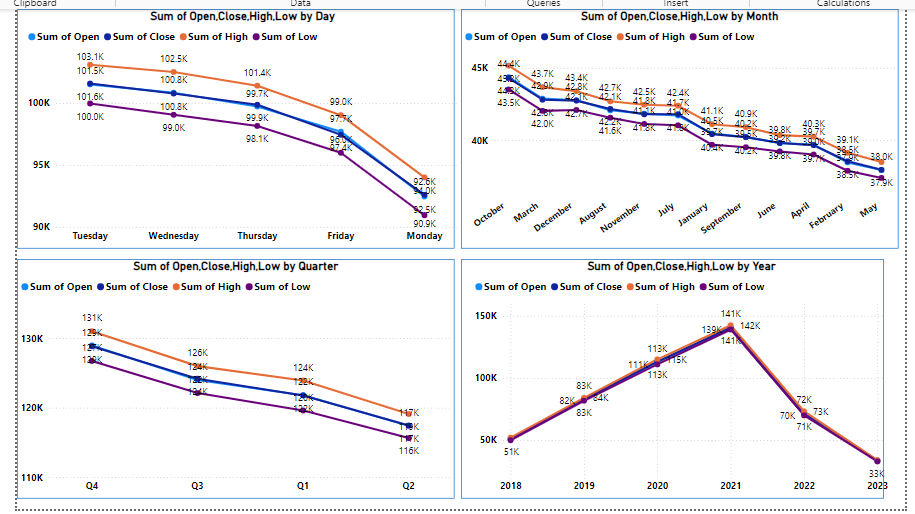

What the dashboard file says about the page in this screenshot:
{"tool":"powerbi","page":{"name":"Page 2","canvas":[1280,720],"ordinal":1},"visuals":[{"type":"lineChart","title":"Sum of Open,Close,High,Low by Day","fields":{"Category":["Sheet1.Day"],"Y":["Sum(Sheet1.Open)","Sum(Sheet1.Close)","Sum(Sheet1.High)","Sum(Sheet1.Low)"]},"box":[9.6,0,629.8,344.4],"z":0},{"type":"lineChart","title":"Sum of Open,Close,High,Low by Month","fields":{"Y":["Sum(Sheet1.Open)","Sum(Sheet1.Close)","Sum(Sheet1.High)","Sum(Sheet1.Low)"],"Category":["Sheet1.Month"]},"box":[640,0,630,345],"z":1000},{"type":"lineChart","title":"Sum of Open,Close,High,Low by Year","fields":{"Y":["Sum(Sheet1.Open)","Sum(Sheet1.Close)","Sum(Sheet1.High)","Sum(Sheet1.Low)"],"Category":["Sheet1.Year"]},"box":[653.8,360,606.2,345],"z":2000},{"type":"lineChart","title":"Sum of Open,Close,High,Low by Quarter","fields":{"Y":["Sum(Sheet1.Open)","Sum(Sheet1.Close)","Sum(Sheet1.High)","Sum(Sheet1.Low)"],"Category":["Sheet1.Quarter"]},"box":[0,360,630,345],"z":3000},{"type":"shape","box":[0,0,630,345],"z":4000},{"type":"shape","box":[640,0,630,345],"z":5000},{"type":"shape","box":[0,360,630,345],"z":6000},{"type":"shape","box":[640,360,608.8,345],"z":7000}]}

Visuals, with their boxes on the page's 1280x720 design canvas (x1, y1, x2, y2). These are canvas units, not pixel positions in the 915x514 screenshot, which may show the page scaled, cropped or inside an application window:
"Sum of Open,Close,High,Low by Day" lineChart: detection(10, 0, 639, 344)
"Sum of Open,Close,High,Low by Month" lineChart: detection(640, 0, 1270, 345)
"Sum of Open,Close,High,Low by Year" lineChart: detection(654, 360, 1260, 705)
"Sum of Open,Close,High,Low by Quarter" lineChart: detection(0, 360, 630, 705)
shape: detection(0, 0, 630, 345)
shape: detection(640, 0, 1270, 345)
shape: detection(0, 360, 630, 705)
shape: detection(640, 360, 1249, 705)
